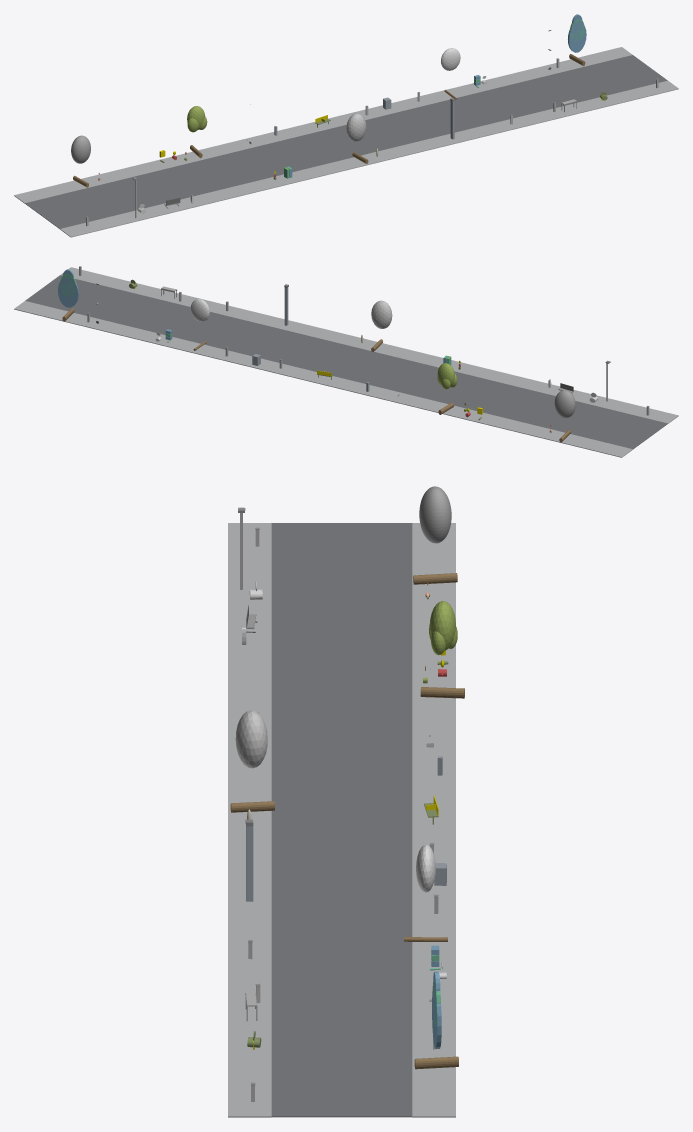
3 renders of one model, top to bottom at view 1: azimuth 30°, elevation 25°; view 2: azimuth 150°, elevation 25°; view 3: azimuth 270°, elevation 25°, orthographic. The views are drawn at different scales.
Parts seen in each view (by area): view 1: road_slab, sidewalk_left, sidewalk_right, inst_0016, inst_0014, inst_0012, inst_0013, inst_0015; view 2: road_slab, sidewalk_right, sidewalk_left, inst_0016, inst_0014, inst_0012, inst_0013, inst_0015; view 3: road_slab, sidewalk_left, sidewalk_right, inst_0014, inst_0012, inst_0013, inst_0016, inst_0015.
Part boxes in pixels (<box>): road_slab: <box>25,55,667,228</box>; sidewalk_left: <box>60,80,678,237</box>; sidewalk_right: <box>14,47,632,203</box>; inst_0016: <box>568,14,586,66</box>; inst_0014: <box>346,113,368,163</box>; inst_0012: <box>71,135,90,187</box>; inst_0013: <box>187,106,207,158</box>; inst_0015: <box>441,48,460,99</box>; road_slab: <box>25,275,667,449</box>; sidewalk_right: <box>14,301,632,457</box>; sidewalk_left: <box>60,267,678,423</box>; inst_0016: <box>58,269,78,321</box>; inst_0014: <box>371,300,392,351</box>; inst_0012: <box>554,390,575,442</box>; inst_0013: <box>437,363,457,414</box>; inst_0015: <box>190,299,209,350</box>; road_slab: <box>271,523,412,1117</box>; sidewalk_left: <box>228,523,271,1117</box>; sidewalk_right: <box>412,523,455,1117</box>; inst_0014: <box>230,710,274,812</box>; inst_0012: <box>413,486,457,584</box>; inst_0013: <box>420,601,464,698</box>; inst_0016: <box>414,971,458,1069</box>; inst_0015: <box>404,844,447,941</box>.
Bounding box in the file's own units: 80 × 6.08 × 13.51.
